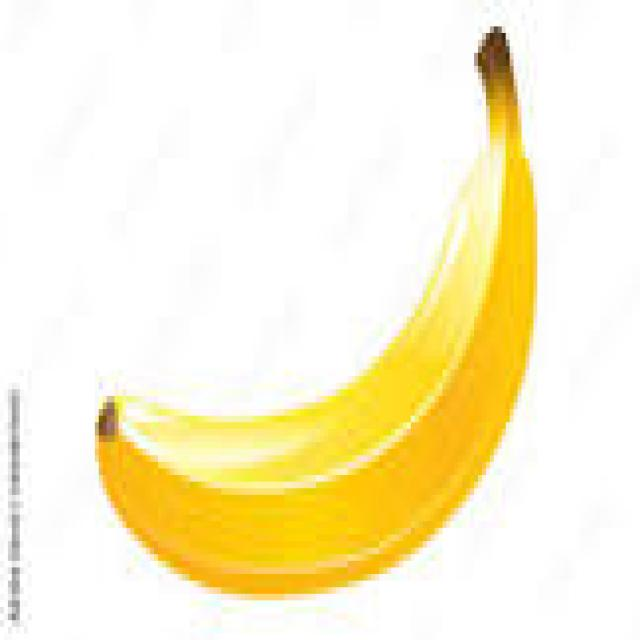Ripe: (87, 22, 540, 599)
